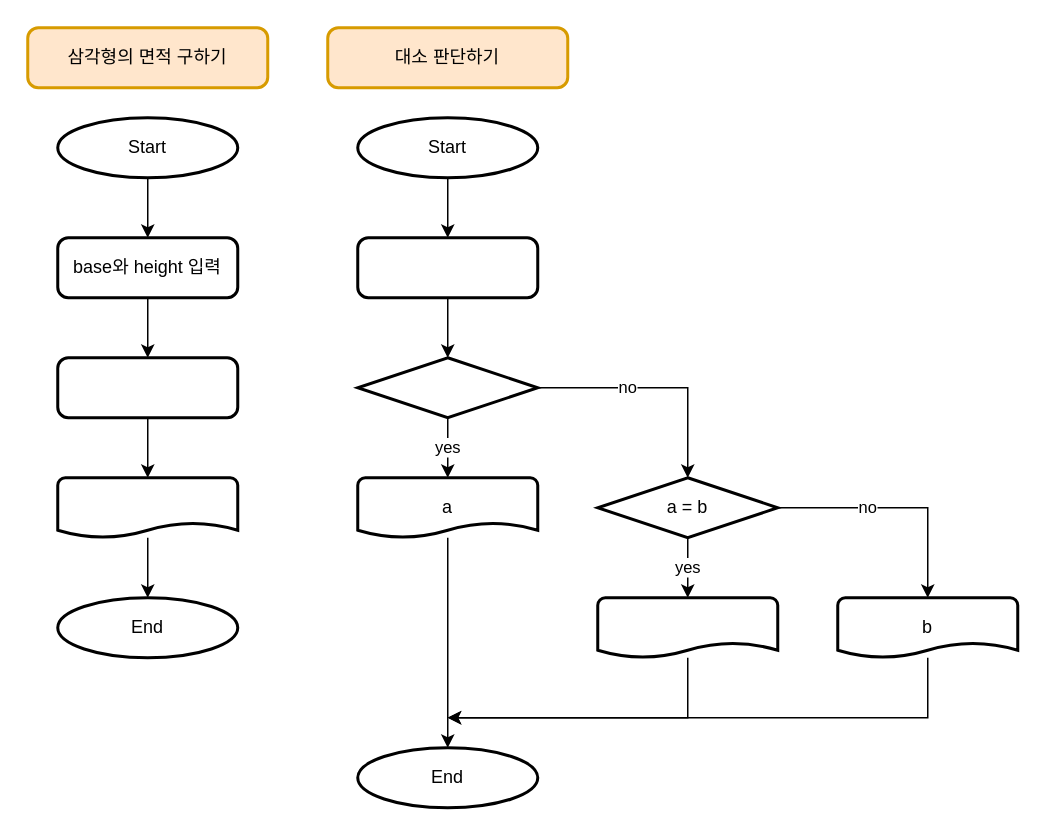
This 1044x834 diagram has some shape labels left out. The shapes that lost their labels are listed below. From the top down, each one's box as (x1, y1, x2, y2) in pixels, then its label:
(356, 236, 538, 298): a와 b를 입력
(56, 356, 238, 418): area = base * height / 2
(356, 356, 538, 418): a > b
(56, 476, 238, 538): area
(596, 596, 778, 658): a와 b는 같다
